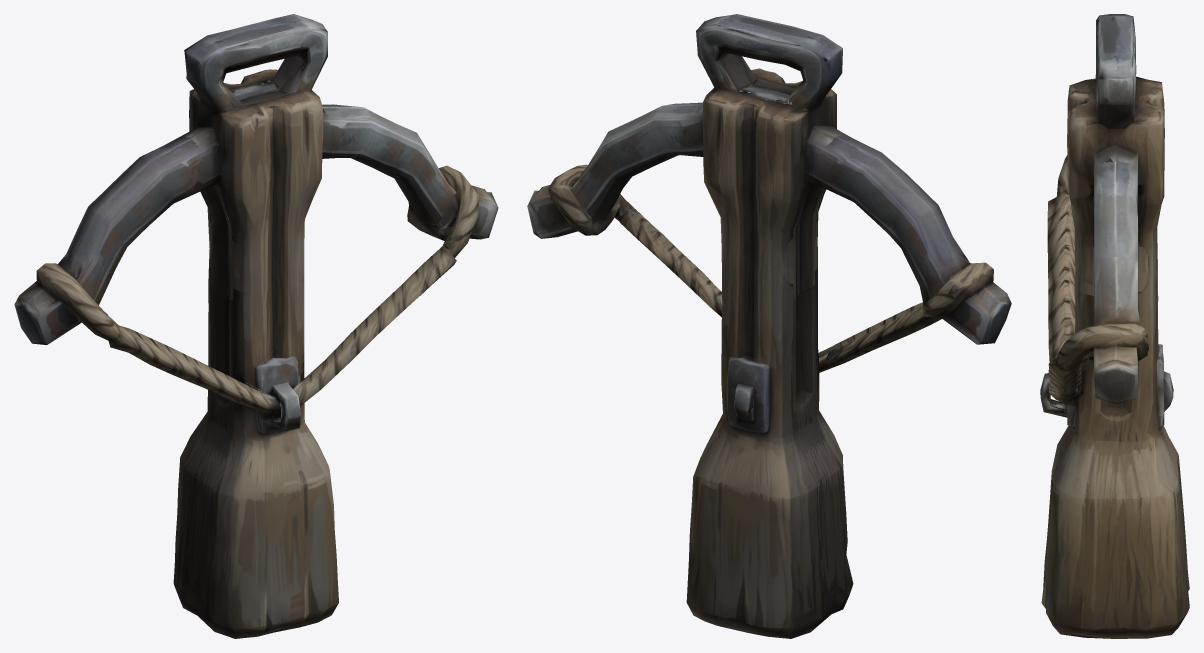
Rendered from Prop_Weapon_Crossbow.fbx.
3 views of the same model, side by side, from view 1: azimuth 30°, elevation 25°; view 2: azimuth 150°, elevation 25°; view 3: azimuth 270°, elevation 25° (orthographic).
Visible parts, largest first — view 1: texture_mapping; view 2: texture_mapping; view 3: texture_mapping.
Boxes of the visible parts, x1,y1,x2,y2 form: texture_mapping: (14, 14, 498, 638); texture_mapping: (527, 14, 1011, 638); texture_mapping: (1040, 14, 1189, 638).
Size of the model in its own units: 0.8532 by 0.2361 by 1.
1 material, 1 textured.
